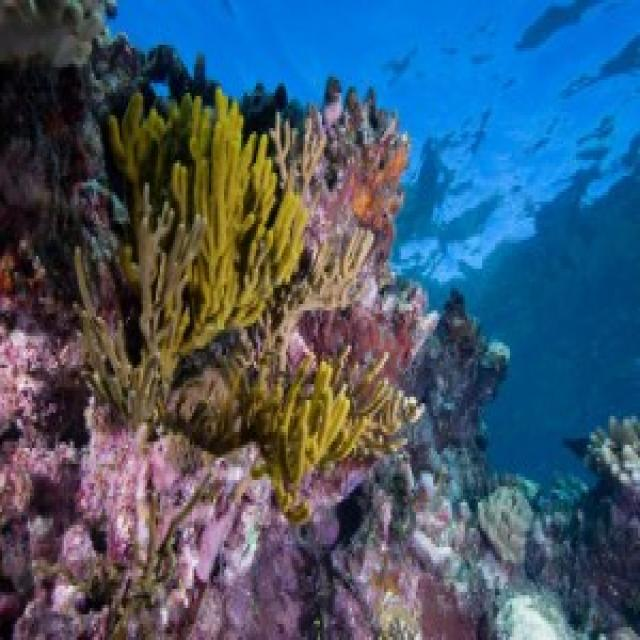Healthy: (82, 91, 306, 417), (178, 302, 419, 519), (65, 401, 272, 628), (289, 78, 432, 379), (1, 305, 103, 638)
